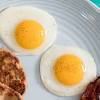potched-egg: (40, 46, 97, 96)
